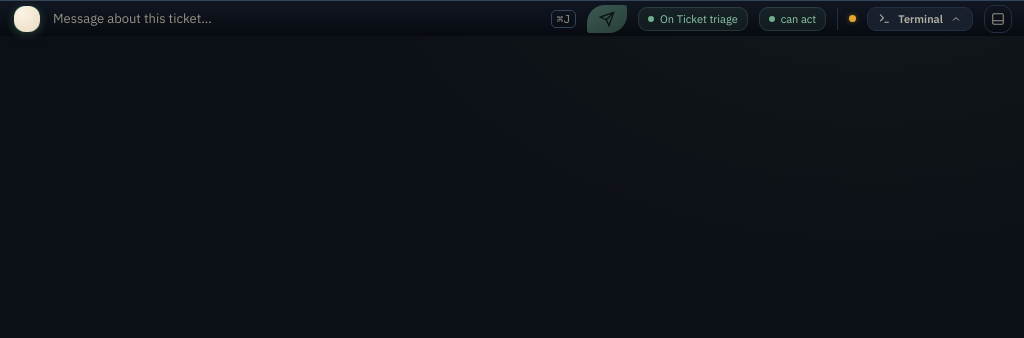
it: the / menu › opens on a leading slash and lists the built-in commands
Type "/" into the field with placeholder "Message about this ticket…" at (295, 18), box [51,9,540,28]
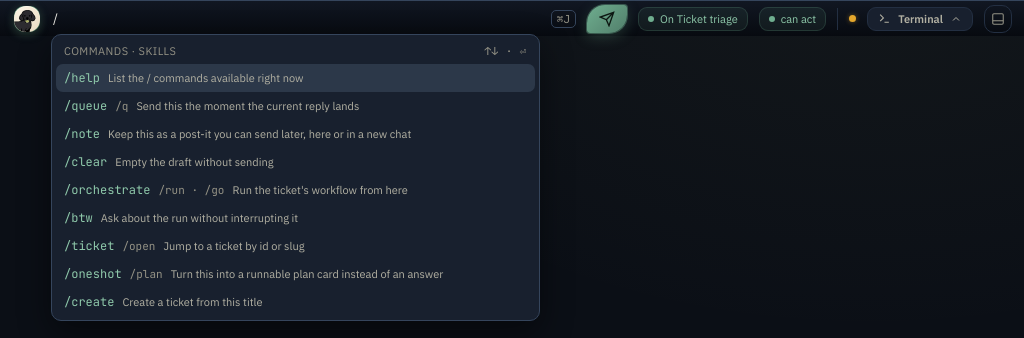
Check: the option "/queue /q Send this the moment the current reply lands" is shown, box [56,92,535,120]
Check: the option "note" is shown, box [56,120,535,148]
Check: the option "/help List the / commands available right now" is shown, box [56,64,535,92]
